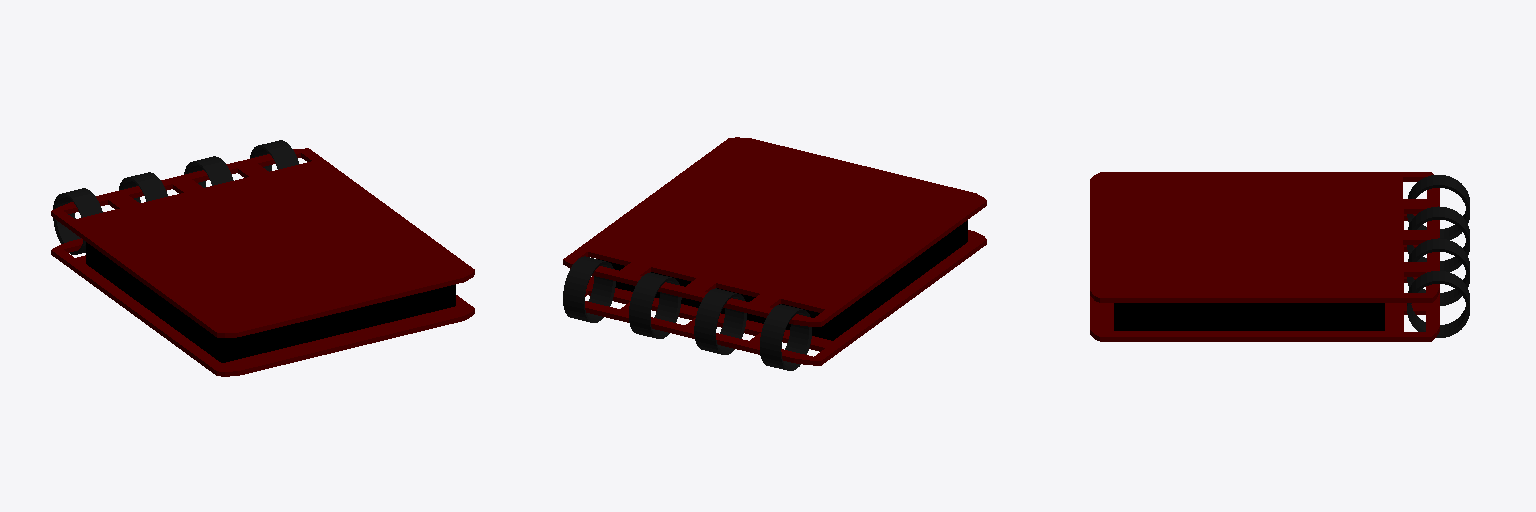
The model's file is notebook4.obj.
3 views of the same model, side by side, from view 1: azimuth 30°, elevation 25°; view 2: azimuth 150°, elevation 25°; view 3: azimuth 270°, elevation 25° (orthographic).
Parts seen in each view (by area): view 1: Mesh2; view 2: Mesh2; view 3: Mesh2.
Part boxes in pixels (x1,y1,x2,y2): Mesh2: (51,140,474,376); Mesh2: (563,137,986,370); Mesh2: (1090,172,1469,341).
Bounding box in the file's own units: 4.63 × 0.9839 × 5.91.